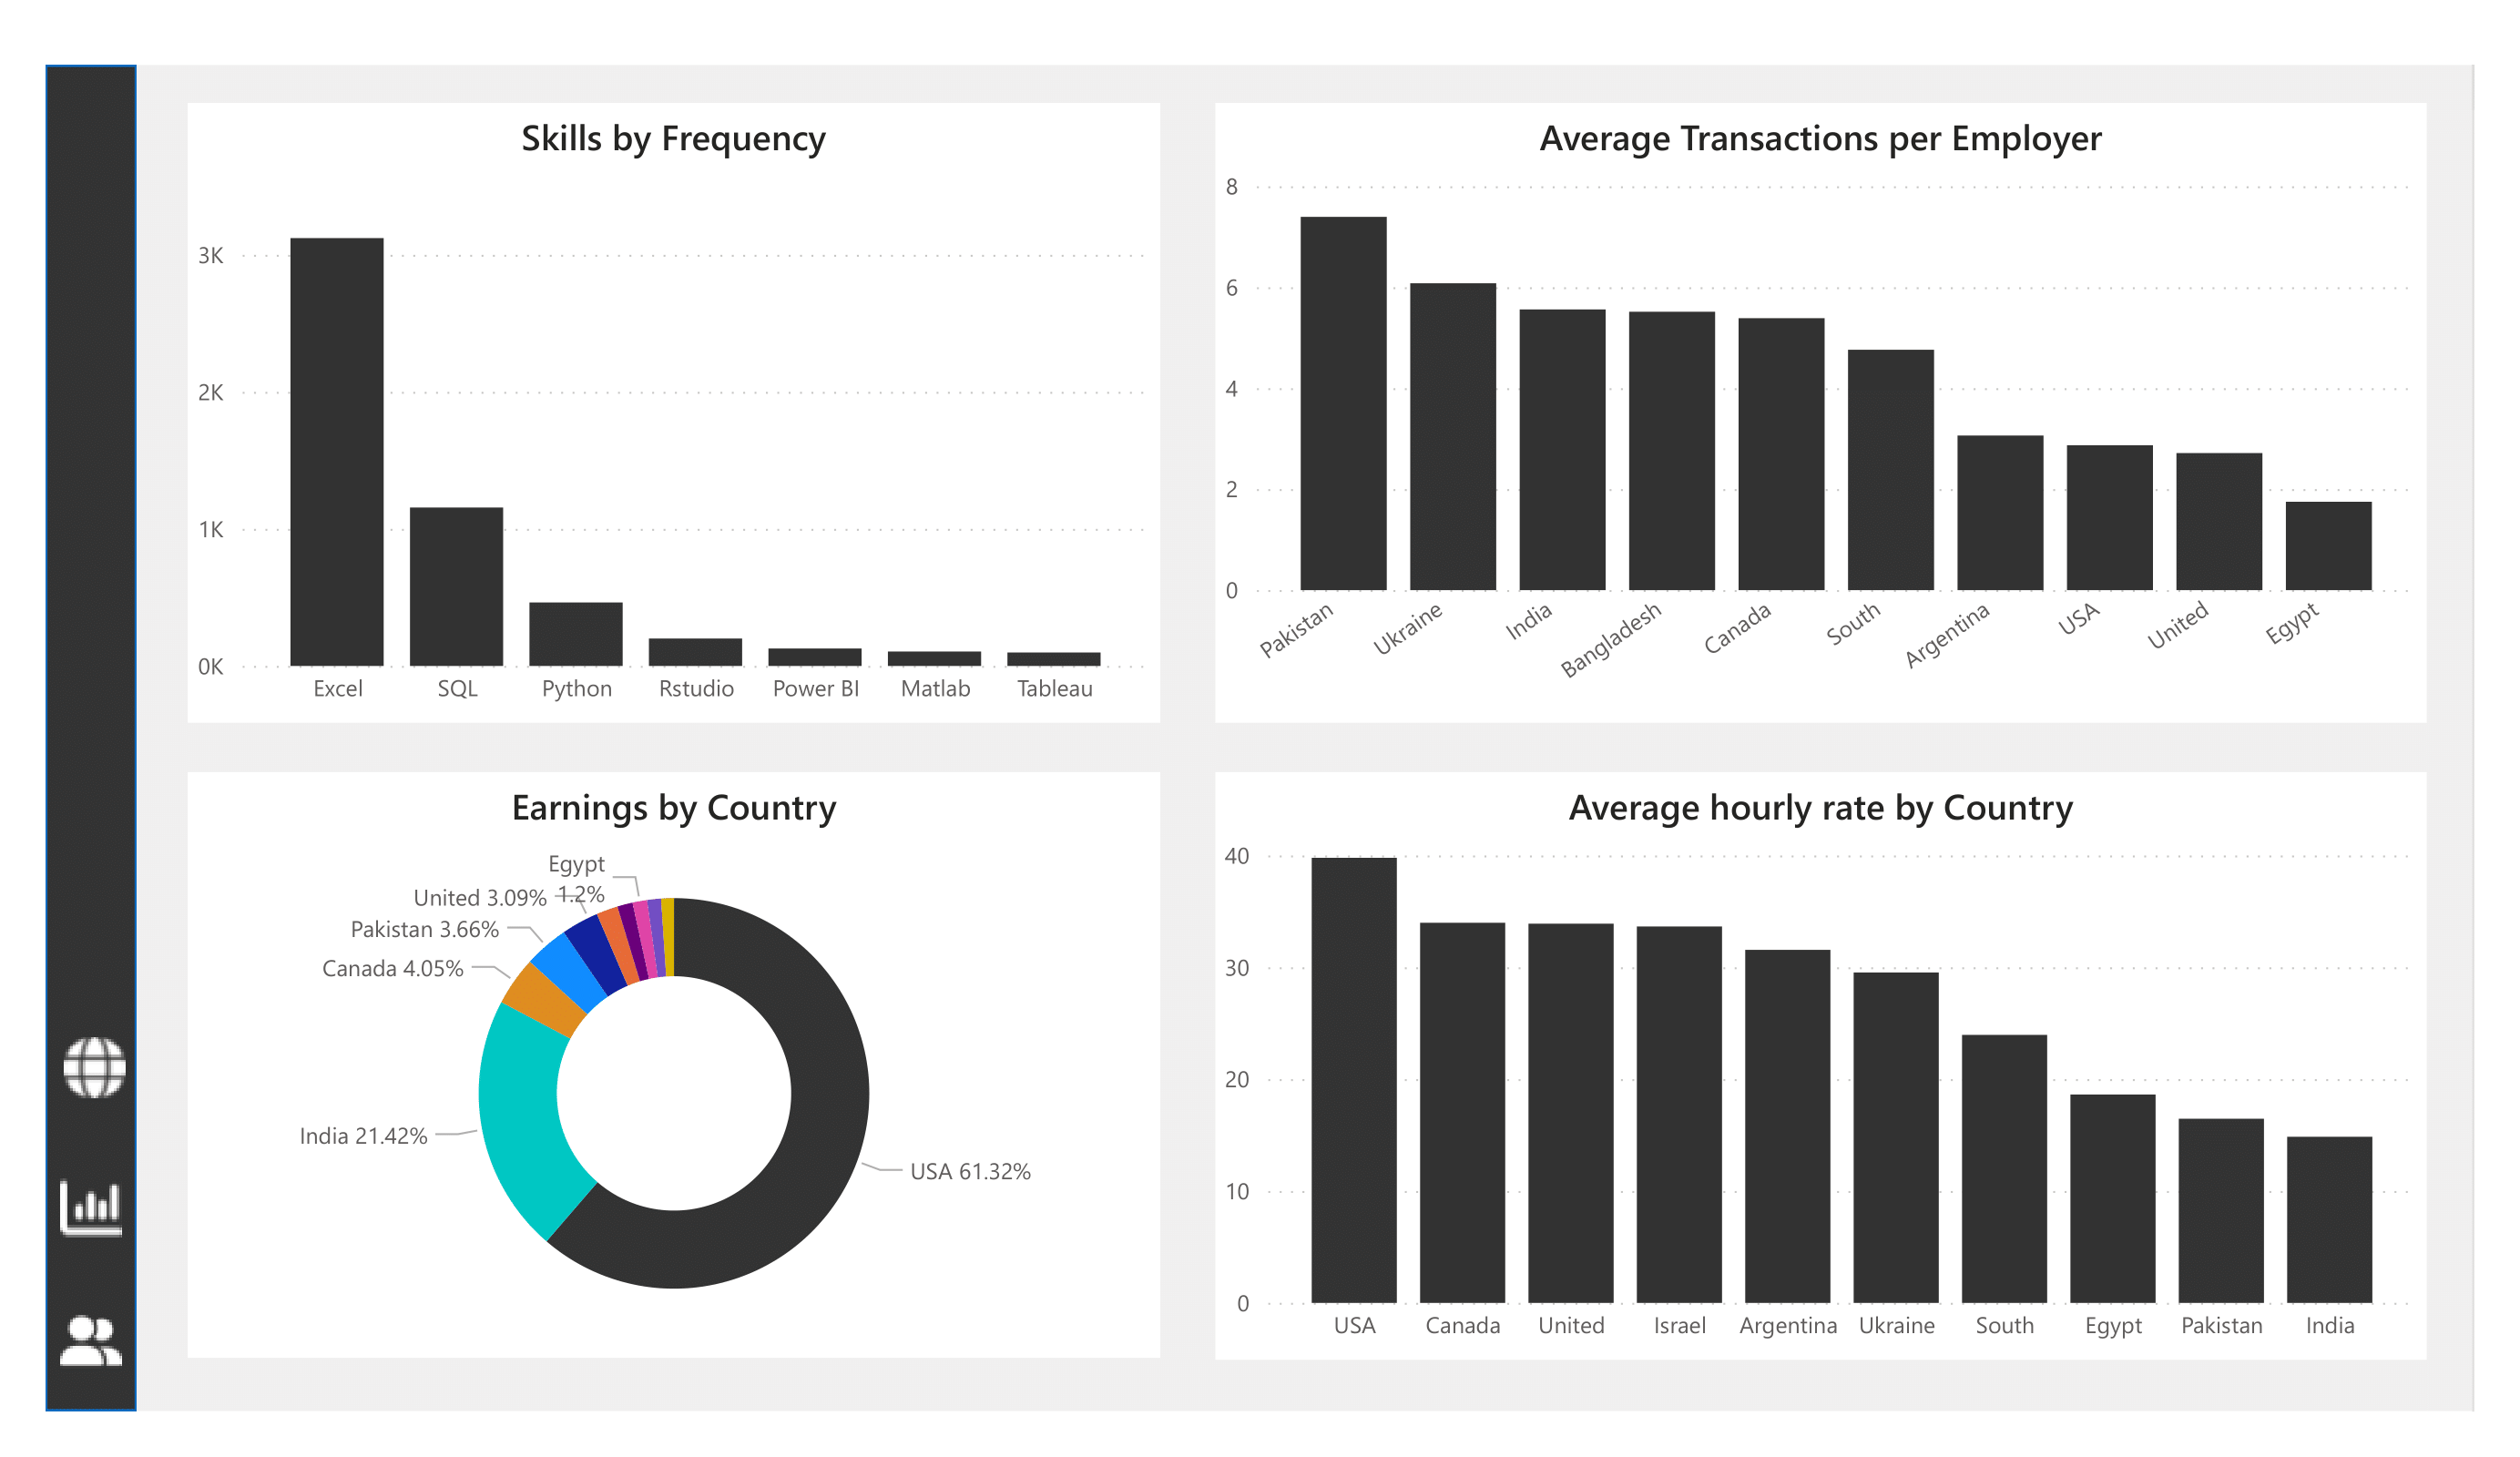

The dashboard page shown, as its layout file describes it:
{"tool":"powerbi","page":{"name":"By Coutry","canvas":[1280,720],"ordinal":1},"visuals":[{"type":"shape","box":[0,10,1280,710],"z":0},{"type":"shape","box":[0,10,48.3,710],"z":1000},{"type":"columnChart","title":" Skills by Frequency","fields":{"Category":["Sheet1.Skill"],"Y":["Sum(Sheet1.Frequency)"]},"box":[75,30,513.3,326.7],"z":2000},{"type":"donutChart","title":"Earnings by Country","fields":{"Category":["data_to_analyse (2).country"],"Y":["Sum(data_to_analyse (2).all_time_earnings)"]},"box":[75,383.3,513.3,308.3],"z":3000},{"type":"columnChart","fields":{"Category":["data_to_analyse (2).country"],"Y":["data_to_analyse (2).Average hourly rate"]},"box":[616.9,383.1,638.8,309.4],"z":4000},{"type":"columnChart","title":" Average Transactions per Employer","fields":{"Category":["data_to_analyse (2).country"],"Y":["Avg(data_to_analyse (2).Transc\\employer)"]},"box":[616.9,30,638.8,326.9],"z":5000},{"type":"actionButton","box":[4.2,663.3,53.3,40],"z":6000},{"type":"actionButton","box":[5.6,518.9,53.3,40],"z":7000},{"type":"actionButton","box":[4.4,593.3,53.3,40],"z":8000}]}

Visuals, with their boxes on the page's 1280x720 design canvas (x1, y1, x2, y2). These are canvas units, not pixel positions in the 2520x1457 screenshot, which may show the page scaled, cropped or inside an application window:
shape: (0,10,1280,720)
shape: (0,10,48,720)
" Skills by Frequency" columnChart: (75,30,588,357)
"Earnings by Country" donutChart: (75,383,588,692)
columnChart - data_to_analyse (2).country x data_to_analyse (2).Average hourly rate: (617,383,1256,692)
" Average Transactions per Employer" columnChart: (617,30,1256,357)
actionButton: (4,663,58,703)
actionButton: (6,519,59,559)
actionButton: (4,593,58,633)
